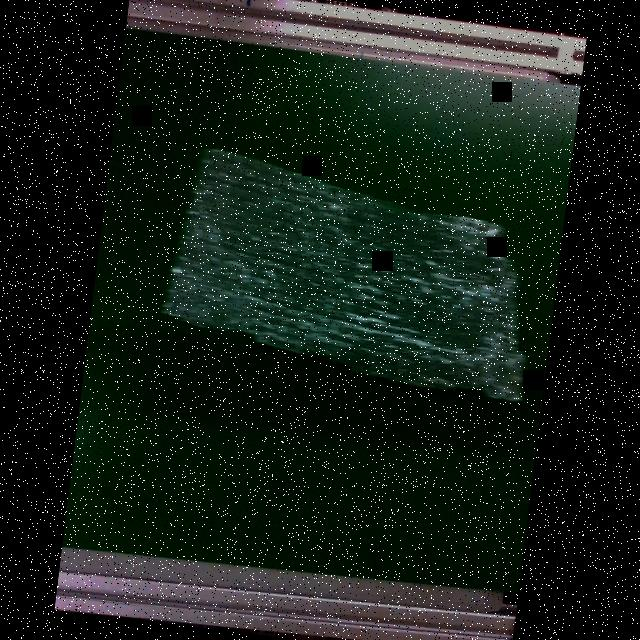scrap_plastic: (151, 144, 549, 404)
